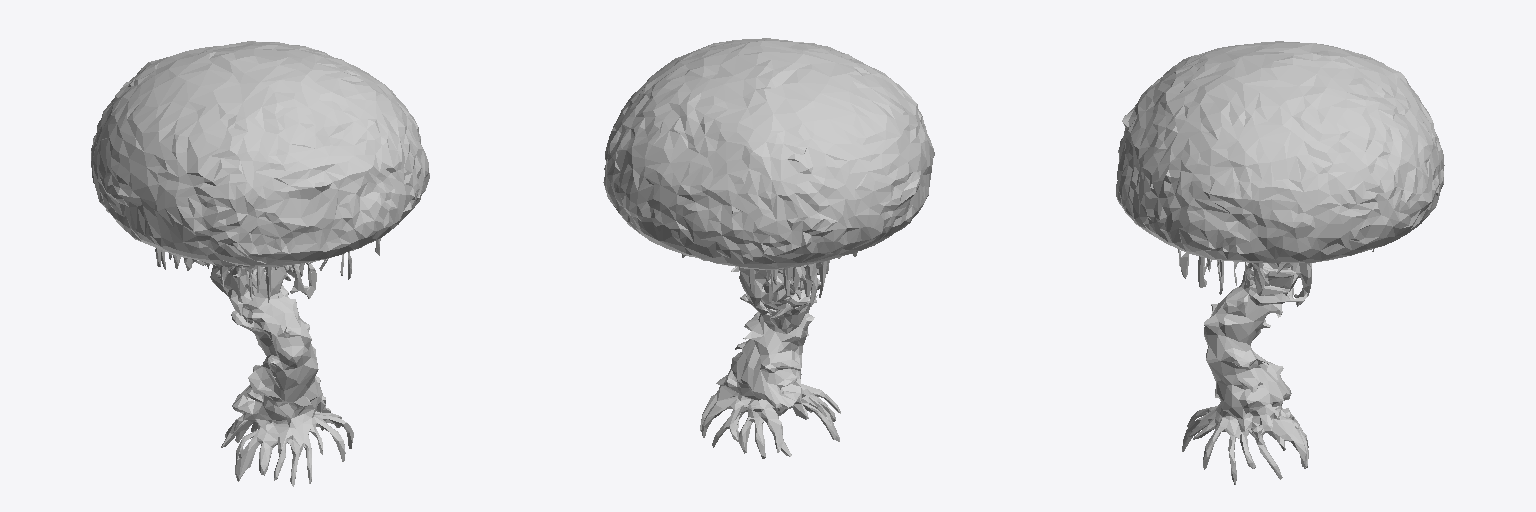
The model's file is 7ce1d77878e8_a_large_alien_bush_.obj.
The picture shows the model from 3 angles: view 1: azimuth 30°, elevation 25°; view 2: azimuth 150°, elevation 25°; view 3: azimuth 270°, elevation 25°; orthographic projection.
Parts seen in each view (by area): view 1: mesh; view 2: mesh; view 3: mesh.
Boxes of the visible parts, box(x1,y1,x2,y2) form: mesh: box(91, 41, 429, 486); mesh: box(603, 38, 934, 458); mesh: box(1116, 41, 1444, 484).
Bounding box in the file's own units: 0.7714 × 1 × 0.7635.